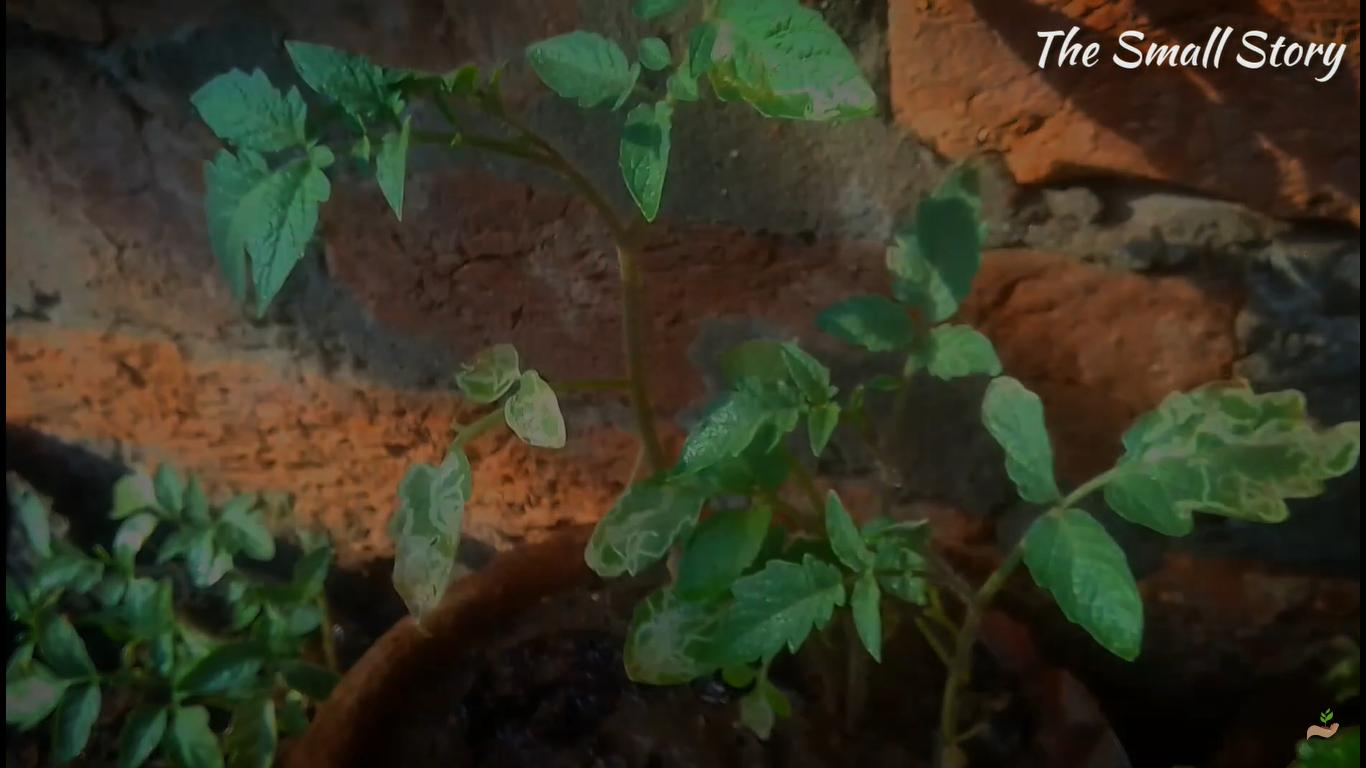Healthy: (1025, 502, 1145, 663), (695, 554, 846, 676), (239, 140, 335, 316), (191, 64, 310, 155), (521, 30, 642, 115)
Leaf_Miner: (1107, 379, 1362, 542), (686, 0, 887, 125), (384, 445, 472, 627), (586, 467, 718, 579), (621, 579, 723, 693), (503, 367, 566, 452), (451, 341, 521, 406)
